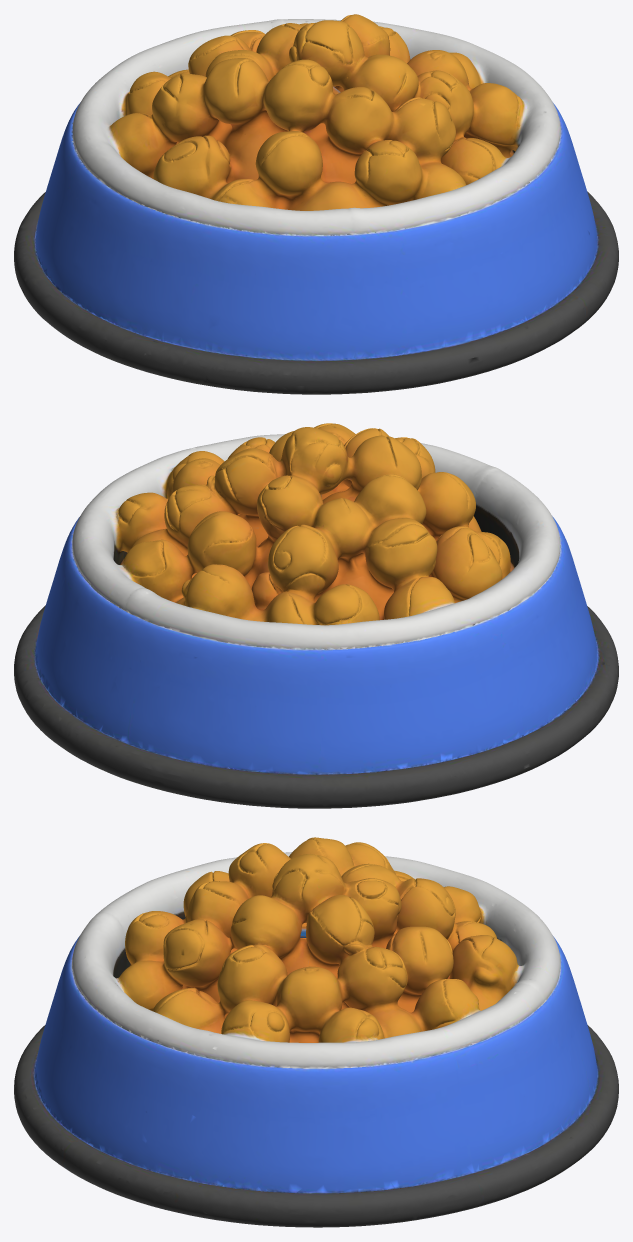
The model's file is dogPlate_lowpoly.fbx.
The picture shows the model from 3 angles, top to bottom: view 1: azimuth 30°, elevation 25°; view 2: azimuth 150°, elevation 25°; view 3: azimuth 270°, elevation 25°; orthographic projection.
Parts seen in each view (by area): view 1: tripo_node_ac33f0bb; view 2: tripo_node_ac33f0bb; view 3: tripo_node_ac33f0bb.
Boxes of the visible parts, <box> form: tripo_node_ac33f0bb: <box>14,14,618,394</box>; tripo_node_ac33f0bb: <box>14,423,618,808</box>; tripo_node_ac33f0bb: <box>14,837,618,1227</box>.
Bounding box in the file's own units: 100 × 46.62 × 99.99.
